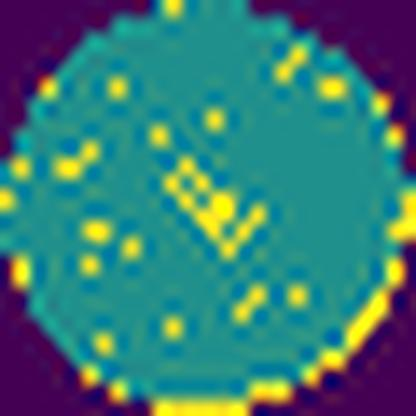Center: (162, 152, 270, 262)
